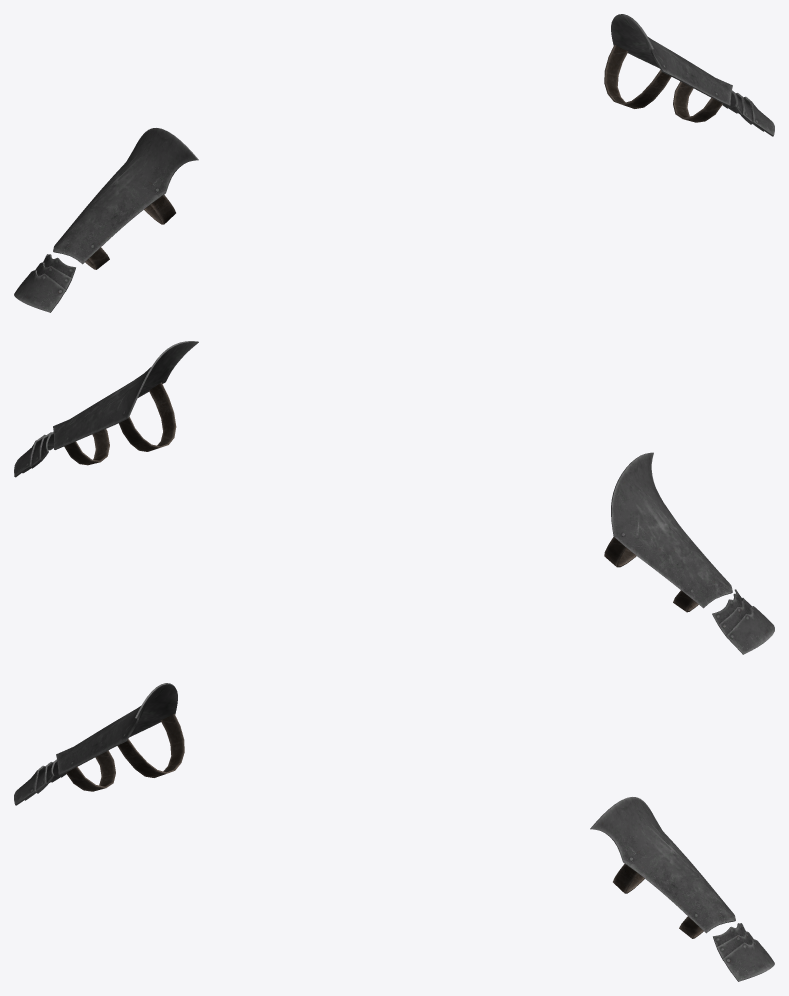
File: sk_uruk_hai_bracer_heavy_a1.fbx
3 renders of one model, top to bottom at view 1: azimuth 30°, elevation 25°; view 2: azimuth 150°, elevation 25°; view 3: azimuth 330°, elevation 25°, orthographic.
Visible parts, largest first — view 1: sk_uruk_hai_bracer_heavy_a1.0, sk_uruk_hai_bracer_heavy_a1.1; view 2: sk_uruk_hai_bracer_heavy_a1.0, sk_uruk_hai_bracer_heavy_a1.1; view 3: sk_uruk_hai_bracer_heavy_a1.0, sk_uruk_hai_bracer_heavy_a1.1.
Boxes of the visible parts, x1=… form: sk_uruk_hai_bracer_heavy_a1.0: x1=14, y1=14, x2=774, y2=312; sk_uruk_hai_bracer_heavy_a1.1: x1=85, y1=45, x2=722, y2=269; sk_uruk_hai_bracer_heavy_a1.0: x1=14, y1=341, x2=774, y2=654; sk_uruk_hai_bracer_heavy_a1.1: x1=64, y1=382, x2=698, y2=612; sk_uruk_hai_bracer_heavy_a1.0: x1=14, y1=683, x2=774, y2=981; sk_uruk_hai_bracer_heavy_a1.1: x1=66, y1=714, x2=703, y2=938.
Size of the model in its own units: 1.52 by 0.1954 by 0.2834.
2 materials, 2 textured.
